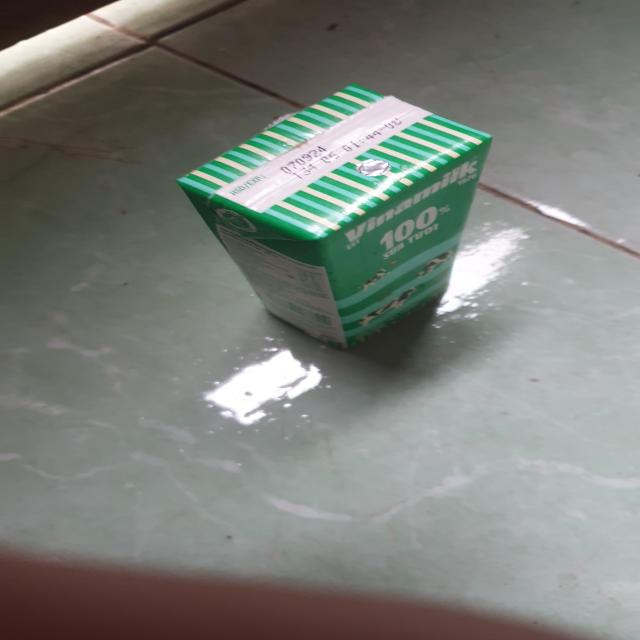Vina: (176, 82, 498, 354)
